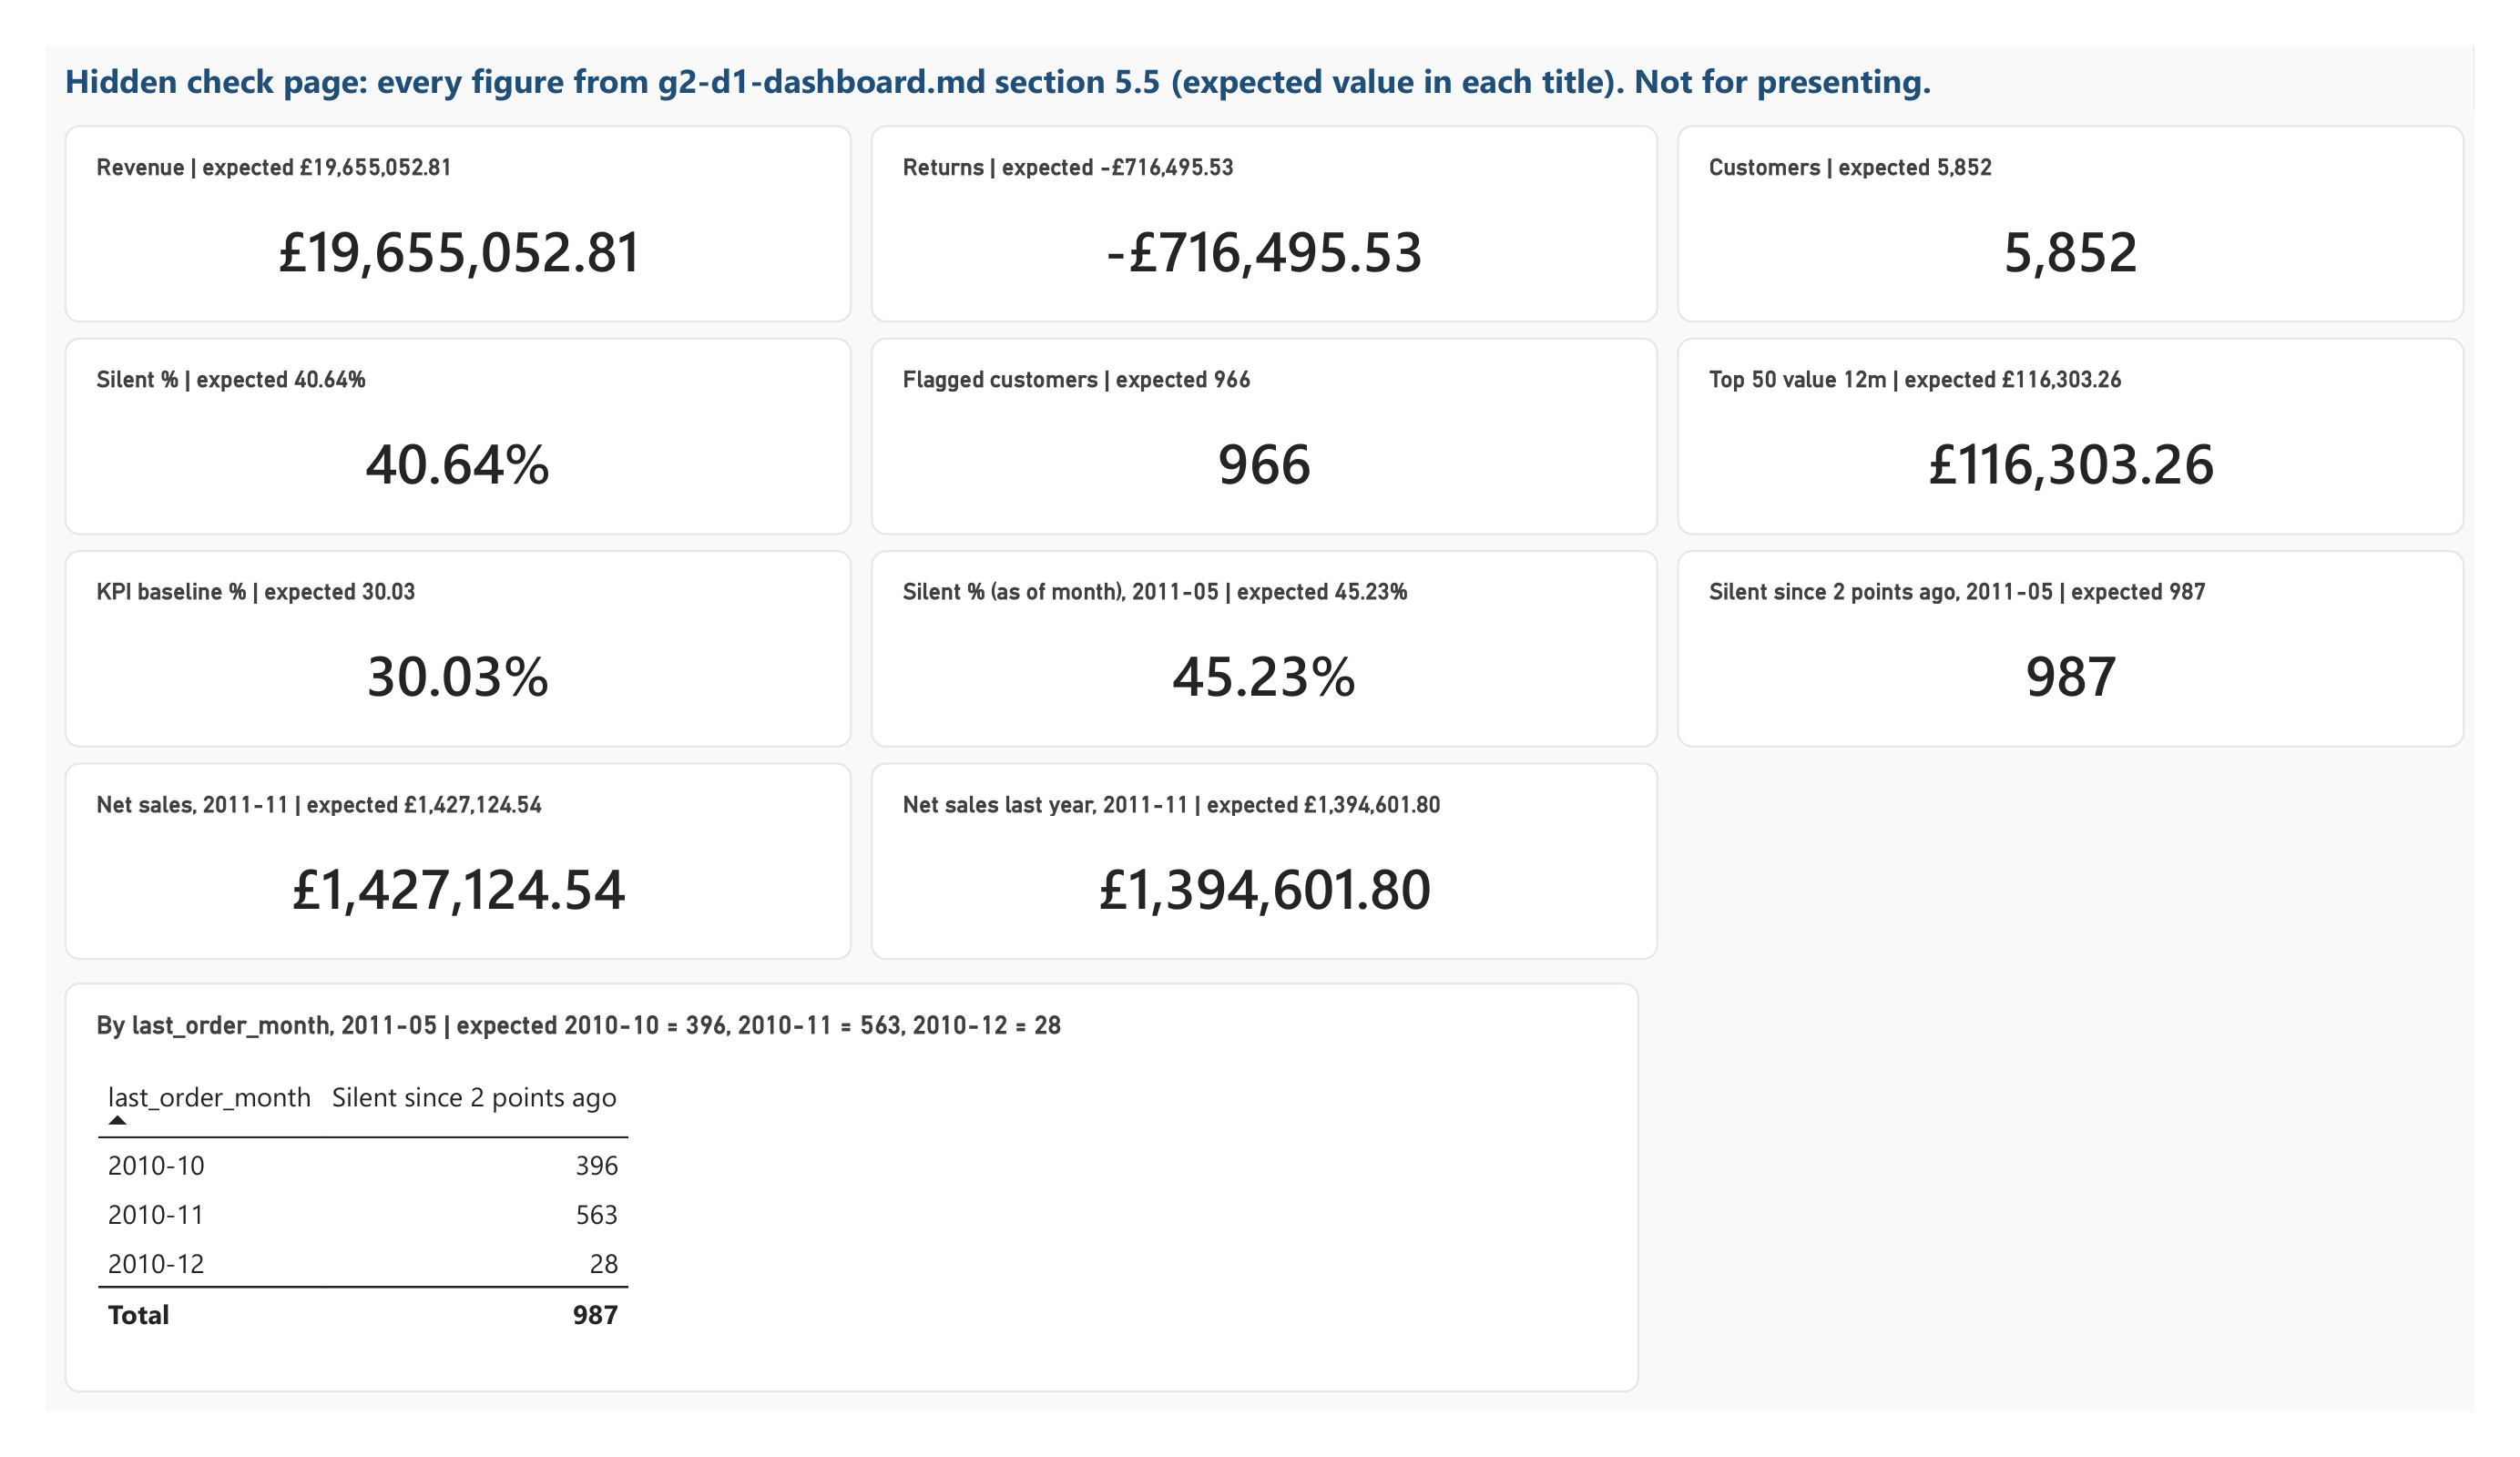

This screenshot's page, from the dashboard's own definition file:
{"tool":"powerbi","page":{"name":"Checks 5.5","canvas":[1280,720],"ordinal":4},"visuals":[{"type":"textbox","box":[10,6,1260,30],"z":0},{"type":"card","title":"Revenue | expected £19,655,052.81","fields":{"Values":["fact_sales.Revenue"]},"box":[10,42,415,104],"z":1000},{"type":"card","title":"Returns | expected -£716,495.53","fields":{"Values":["fact_returns.Returns"]},"box":[435,42,415,104],"z":2000},{"type":"card","title":"Customers | expected 5,852","fields":{"Values":["fact_sales.Customers"]},"box":[860,42,415,104],"z":3000},{"type":"card","title":"Silent % | expected 40.64%","fields":{"Values":["dim_customer.Silent %"]},"box":[10,154,415,104],"z":4000},{"type":"card","title":"Flagged customers | expected 966","fields":{"Values":["dim_customer.Flagged customers"]},"box":[435,154,415,104],"z":5000},{"type":"card","title":"Top 50 value 12m | expected £116,303.26","fields":{"Values":["dim_customer.Top 50 value 12m"]},"box":[860,154,415,104],"z":6000},{"type":"card","title":"KPI baseline % | expected 30.03","fields":{"Values":["kpi_active_to_silent.KPI baseline %"]},"box":[10,266,415,104],"z":7000},{"type":"card","title":"Silent % (as of month), 2011-05 | expected 45.23%","fields":{"Values":["fact_customer_month.Silent % (as of month)"]},"box":[435,266,415,104],"z":8000},{"type":"card","title":"Silent since 2 points ago, 2011-05 | expected 987","fields":{"Values":["fact_customer_month.Silent since 2 points ago"]},"box":[860,266,415,104],"z":9000},{"type":"card","title":"Net sales, 2011-11 | expected £1,427,124.54","fields":{"Values":["fact_sales.Net sales"]},"box":[10,378,415,104],"z":10000},{"type":"card","title":"Net sales last year, 2011-11 | expected £1,394,601.80","fields":{"Values":["fact_sales.Net sales last year"]},"box":[435,378,415,104],"z":11000},{"type":"tableEx","title":"By last_order_month, 2011-05 | expected 2010-10 = 396, 2010-11 = 563, 2010-12 = 28","fields":{"Values":["fact_customer_month.last_order_month","fact_customer_month.Silent since 2 points ago"]},"box":[10,494,830,216],"z":12000}]}

Visuals, with their boxes on the page's 1280x720 design canvas (x1, y1, x2, y2). These are canvas units, not pixel positions in the 2520x1457 screenshot, which may show the page scaled, cropped or inside an application window:
textbox: (left=10, top=6, right=1270, bottom=36)
"Revenue | expected £19,655,052.81" card: (left=10, top=42, right=425, bottom=146)
"Returns | expected -£716,495.53" card: (left=435, top=42, right=850, bottom=146)
"Customers | expected 5,852" card: (left=860, top=42, right=1275, bottom=146)
"Silent % | expected 40.64%" card: (left=10, top=154, right=425, bottom=258)
"Flagged customers | expected 966" card: (left=435, top=154, right=850, bottom=258)
"Top 50 value 12m | expected £116,303.26" card: (left=860, top=154, right=1275, bottom=258)
"KPI baseline % | expected 30.03" card: (left=10, top=266, right=425, bottom=370)
"Silent % (as of month), 2011-05 | expected 45.23%" card: (left=435, top=266, right=850, bottom=370)
"Silent since 2 points ago, 2011-05 | expected 987" card: (left=860, top=266, right=1275, bottom=370)
"Net sales, 2011-11 | expected £1,427,124.54" card: (left=10, top=378, right=425, bottom=482)
"Net sales last year, 2011-11 | expected £1,394,601.80" card: (left=435, top=378, right=850, bottom=482)
"By last_order_month, 2011-05 | expected 2010-10 = 396, 2010-11 = 563, 2010-12 = 28" tableEx: (left=10, top=494, right=840, bottom=710)
